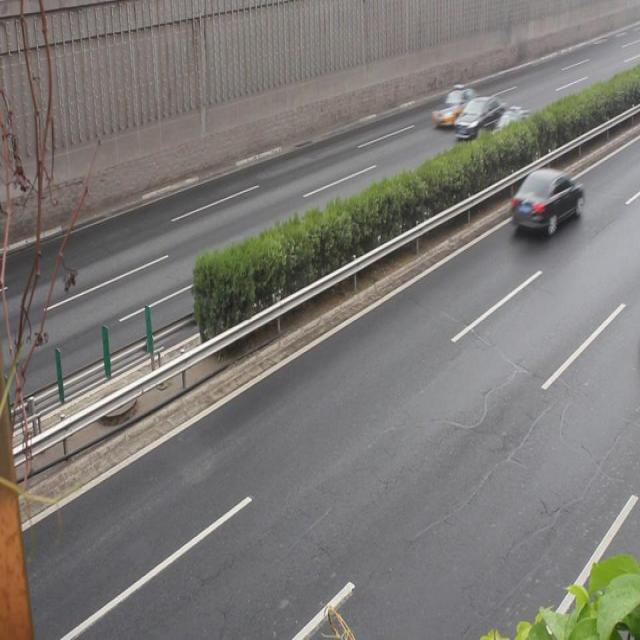car: (510, 166, 583, 232), (454, 95, 506, 141), (487, 108, 539, 153), (432, 86, 484, 129)
